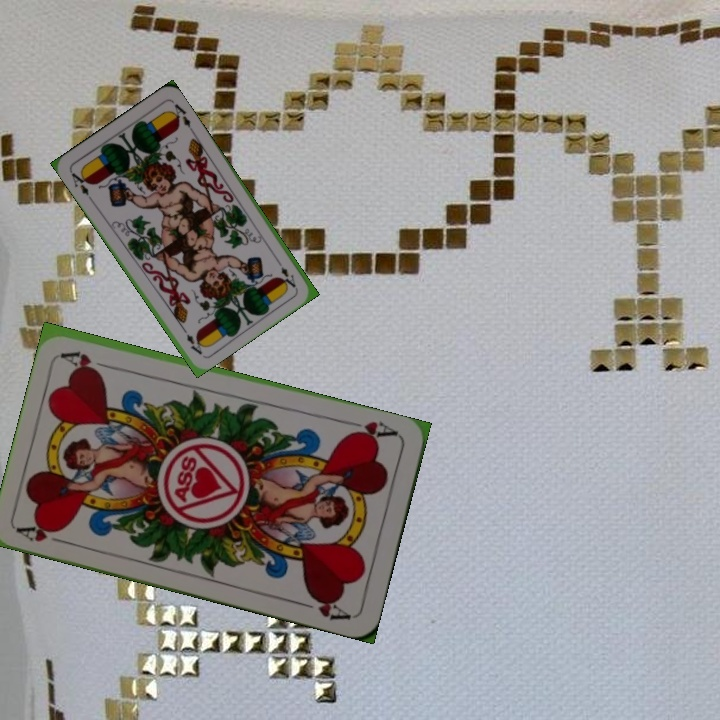EA: (66, 167, 94, 202), (272, 255, 299, 290)
HA: (15, 519, 73, 547), (343, 417, 401, 444)
